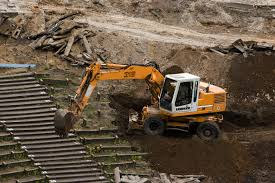excavator: (56, 61, 227, 145)
